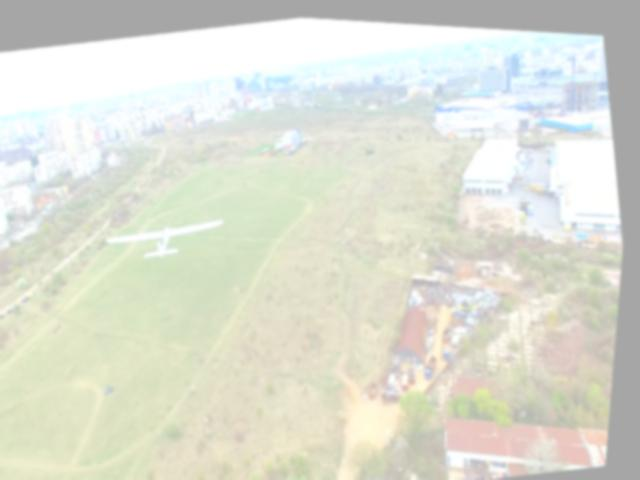plane: (107, 211, 231, 266)
